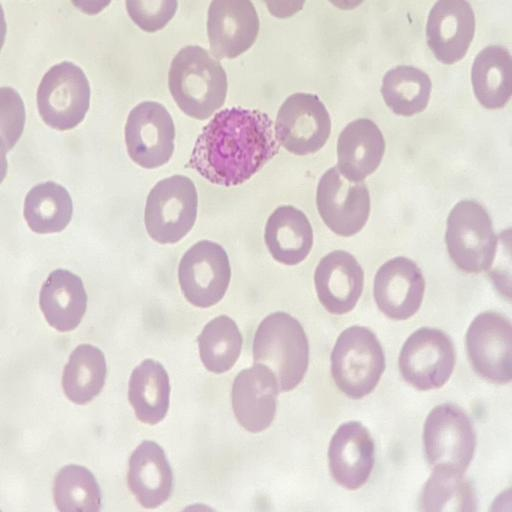Infected: (183, 105, 290, 184)
Uninfected: (251, 312, 310, 393), (423, 400, 479, 485), (169, 43, 229, 120), (316, 163, 371, 240), (330, 326, 385, 398), (464, 309, 512, 387), (447, 195, 494, 274), (276, 90, 334, 154), (399, 326, 456, 391), (123, 96, 173, 170), (37, 60, 90, 126), (144, 176, 197, 241), (207, 0, 260, 65), (313, 249, 365, 315), (327, 418, 375, 489), (427, 0, 480, 63), (337, 116, 384, 185), (127, 438, 172, 510), (124, 356, 170, 426), (179, 243, 230, 306), (20, 178, 76, 235), (373, 258, 423, 321), (39, 265, 87, 330), (264, 203, 313, 265), (230, 366, 278, 429), (62, 343, 109, 406), (194, 313, 240, 377), (383, 63, 433, 117), (470, 45, 512, 109), (54, 466, 100, 512)
